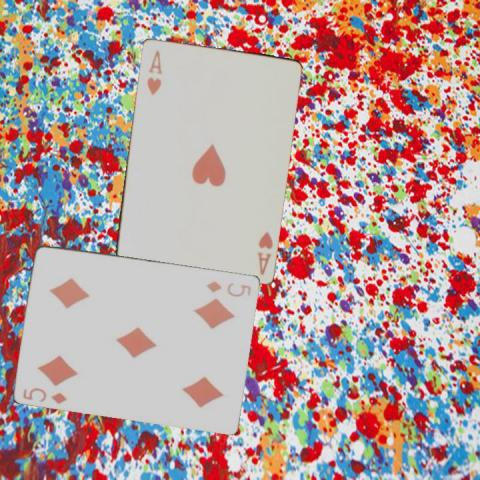5d: (203, 277, 253, 298), (20, 384, 69, 405)
Ah: (143, 47, 163, 97), (254, 227, 274, 276)
